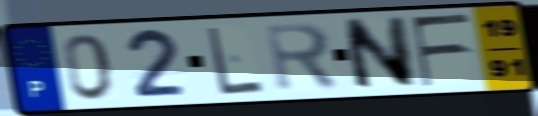0: (62, 32, 115, 101)
2: (123, 26, 192, 101)
F: (408, 11, 474, 90)
L: (204, 24, 267, 98)
N: (339, 14, 418, 93)
R: (262, 21, 343, 95)
